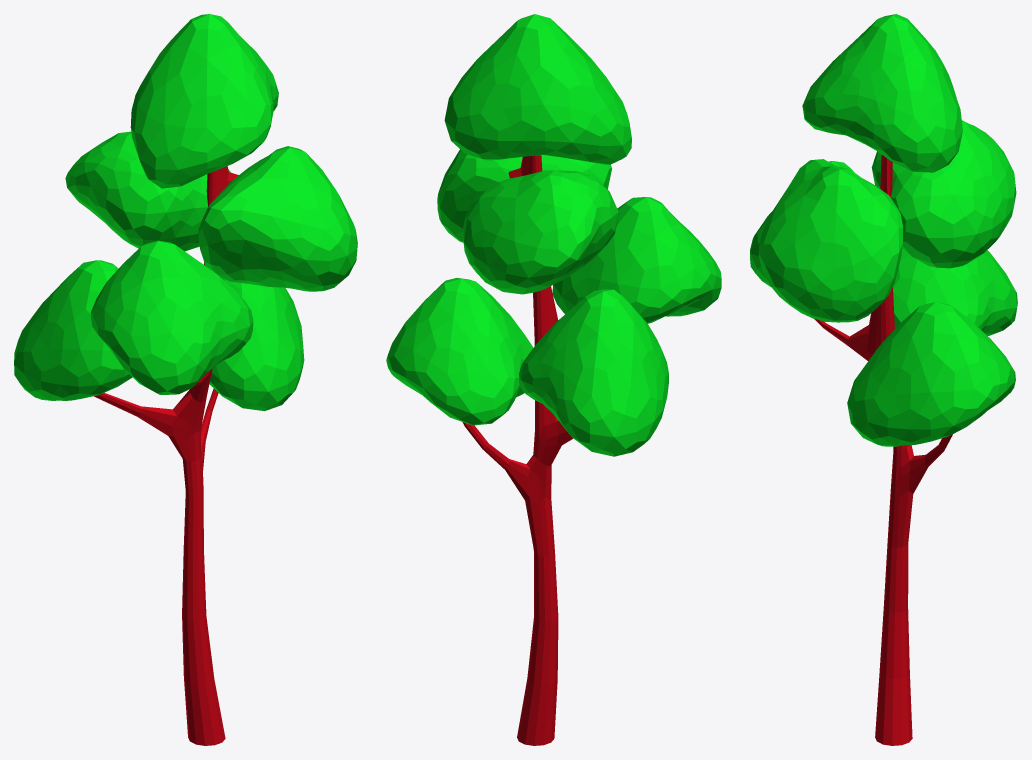
The model's file is tree2.fbx.
3 views of the same model, side by side, from view 1: azimuth 30°, elevation 25°; view 2: azimuth 150°, elevation 25°; view 3: azimuth 270°, elevation 25° (orthographic).
Parts seen in each view (by area): view 1: Tree_Type4_04_mesh; view 2: Tree_Type4_04_mesh; view 3: Tree_Type4_04_mesh.
Boxes of the visible parts, x1,y1,x2,y2 form: Tree_Type4_04_mesh: (14, 14, 357, 745); Tree_Type4_04_mesh: (386, 14, 721, 745); Tree_Type4_04_mesh: (750, 14, 1017, 745).
Bounding box in the file's own units: 237 × 620 × 208.
